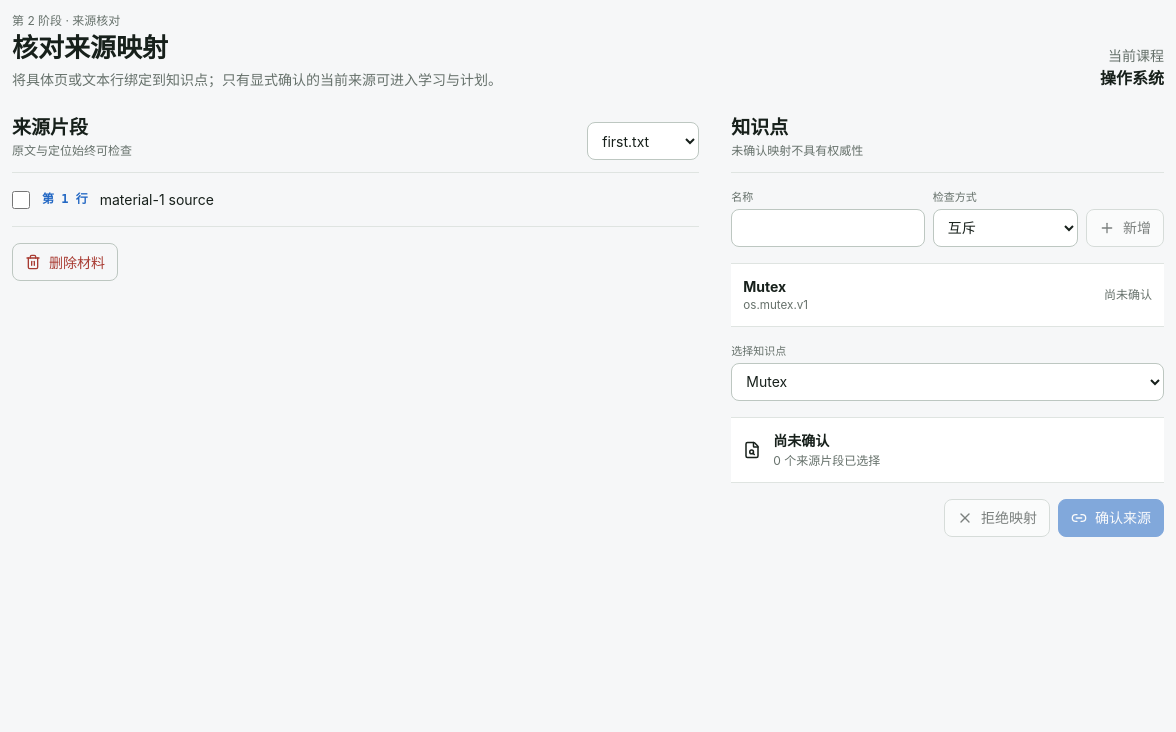
Test: MappingView › clears hidden locator selections when the visible material changes
Click the checkbox at x=21, y=200, box left=12, top=191, right=30, bottom=209
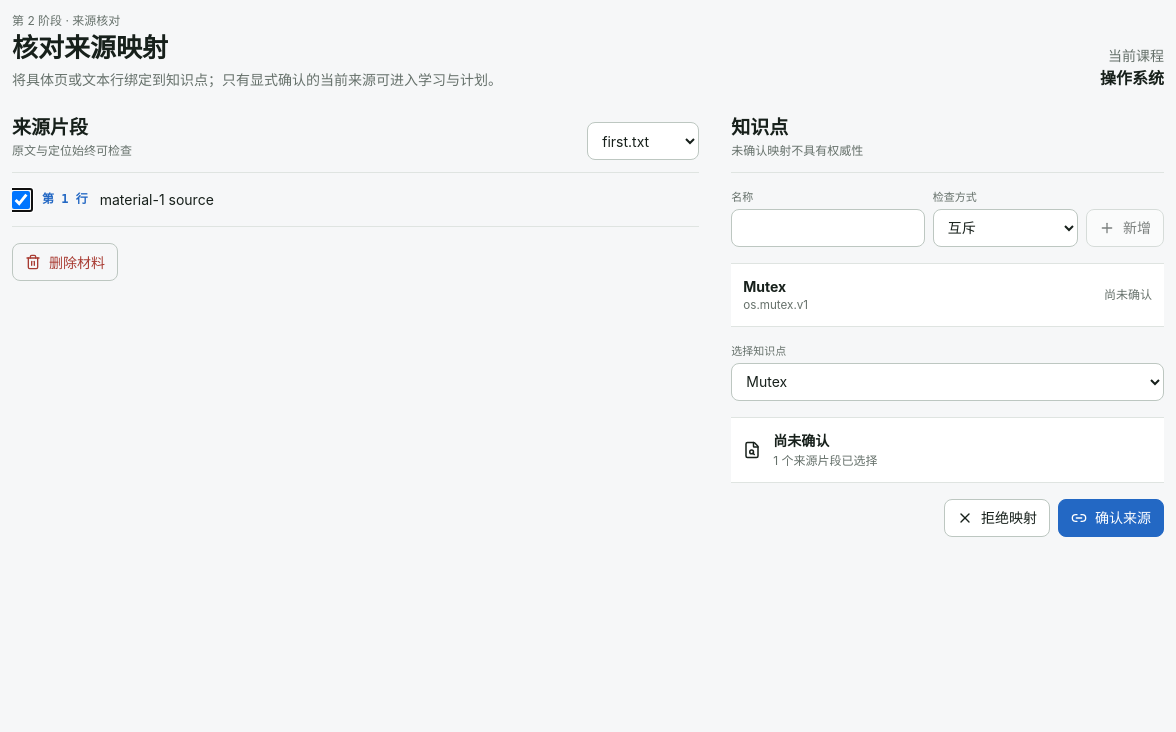
Result: the button "确认来源" is enabled at left=1058, top=498, right=1164, bottom=536
Select "second.txt" in the dropdown named "选择材料" at x=643, y=141, box left=587, top=122, right=699, bottom=160
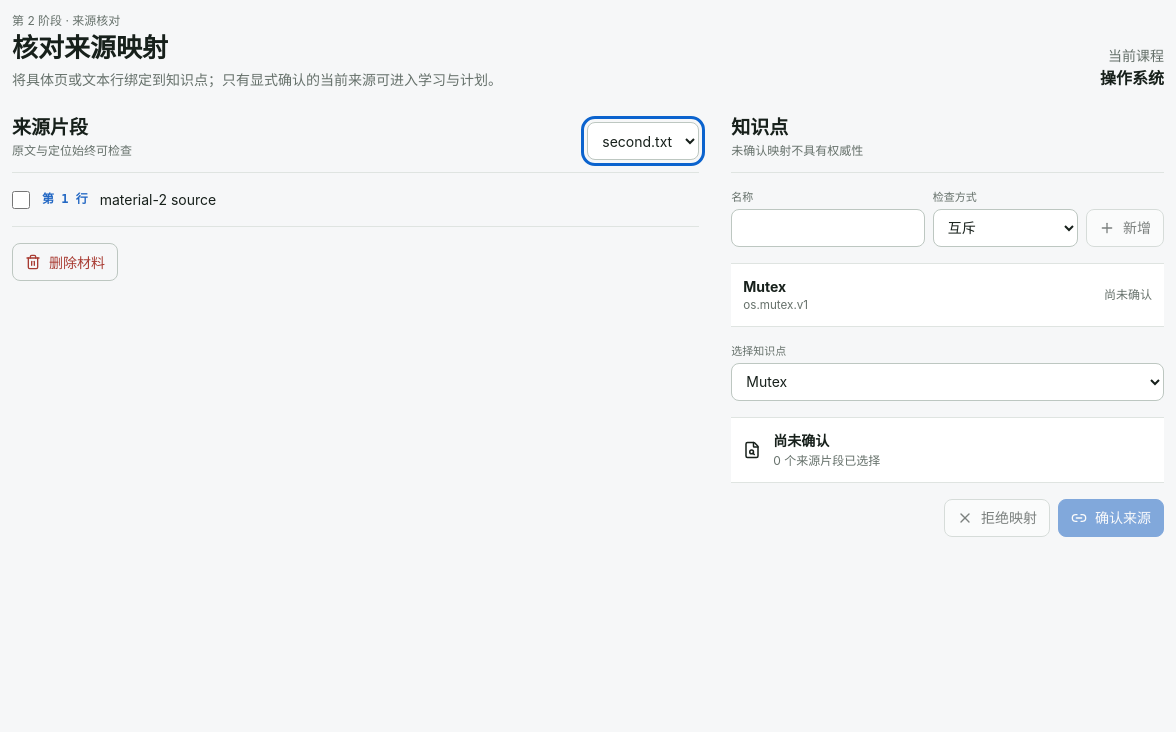
Result: the button "确认来源" is disabled at left=1058, top=498, right=1164, bottom=536
